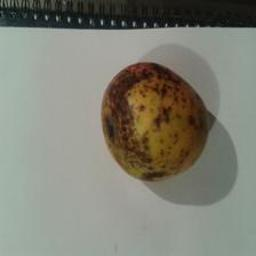Mango Rotten: (98, 57, 207, 185)
